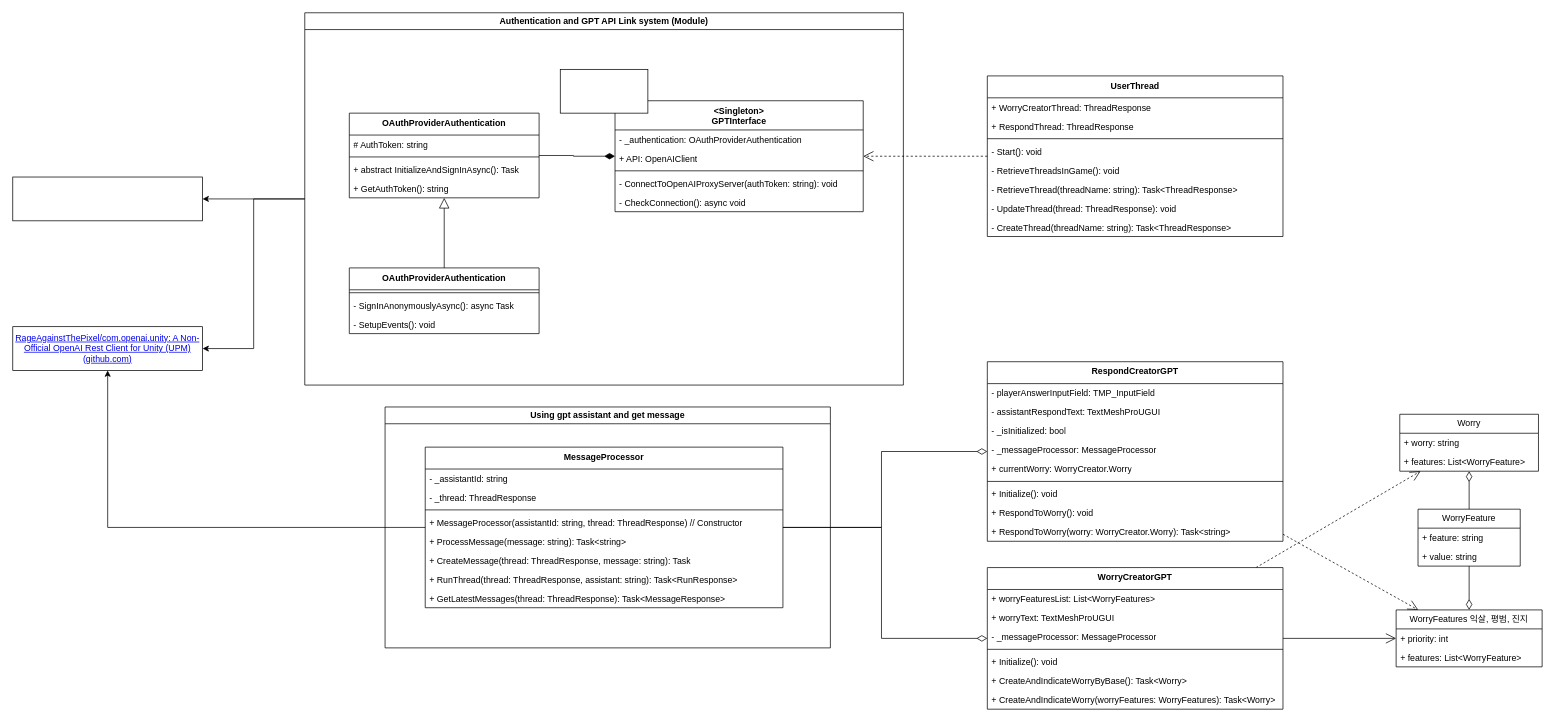
This 1555x724 diagram has some shape labels left out. The centre of each missing label's shape, as x and y in pixels:
Starategy: the point at 604,91
Unity Gaming Services: the point at 107,198
